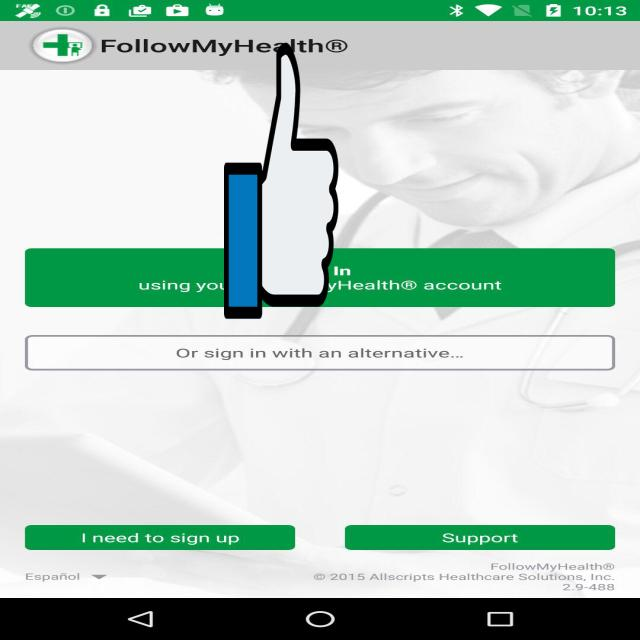privacy zuckering: (224, 36, 338, 324)
